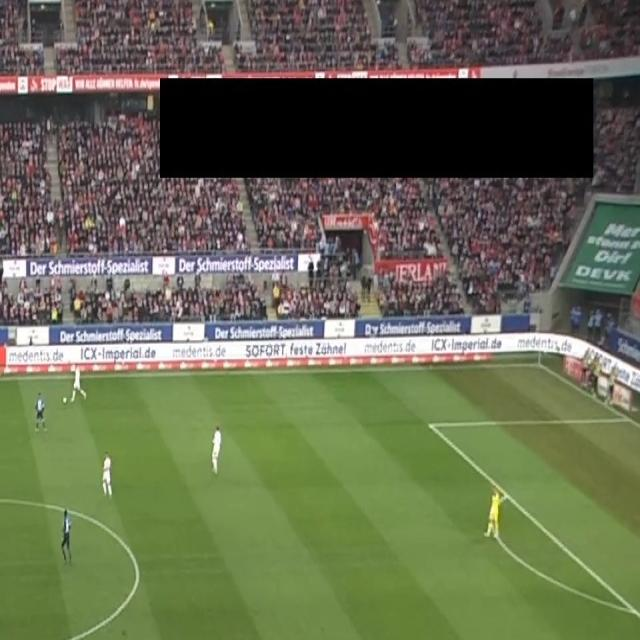ball: (62, 395, 68, 406)
